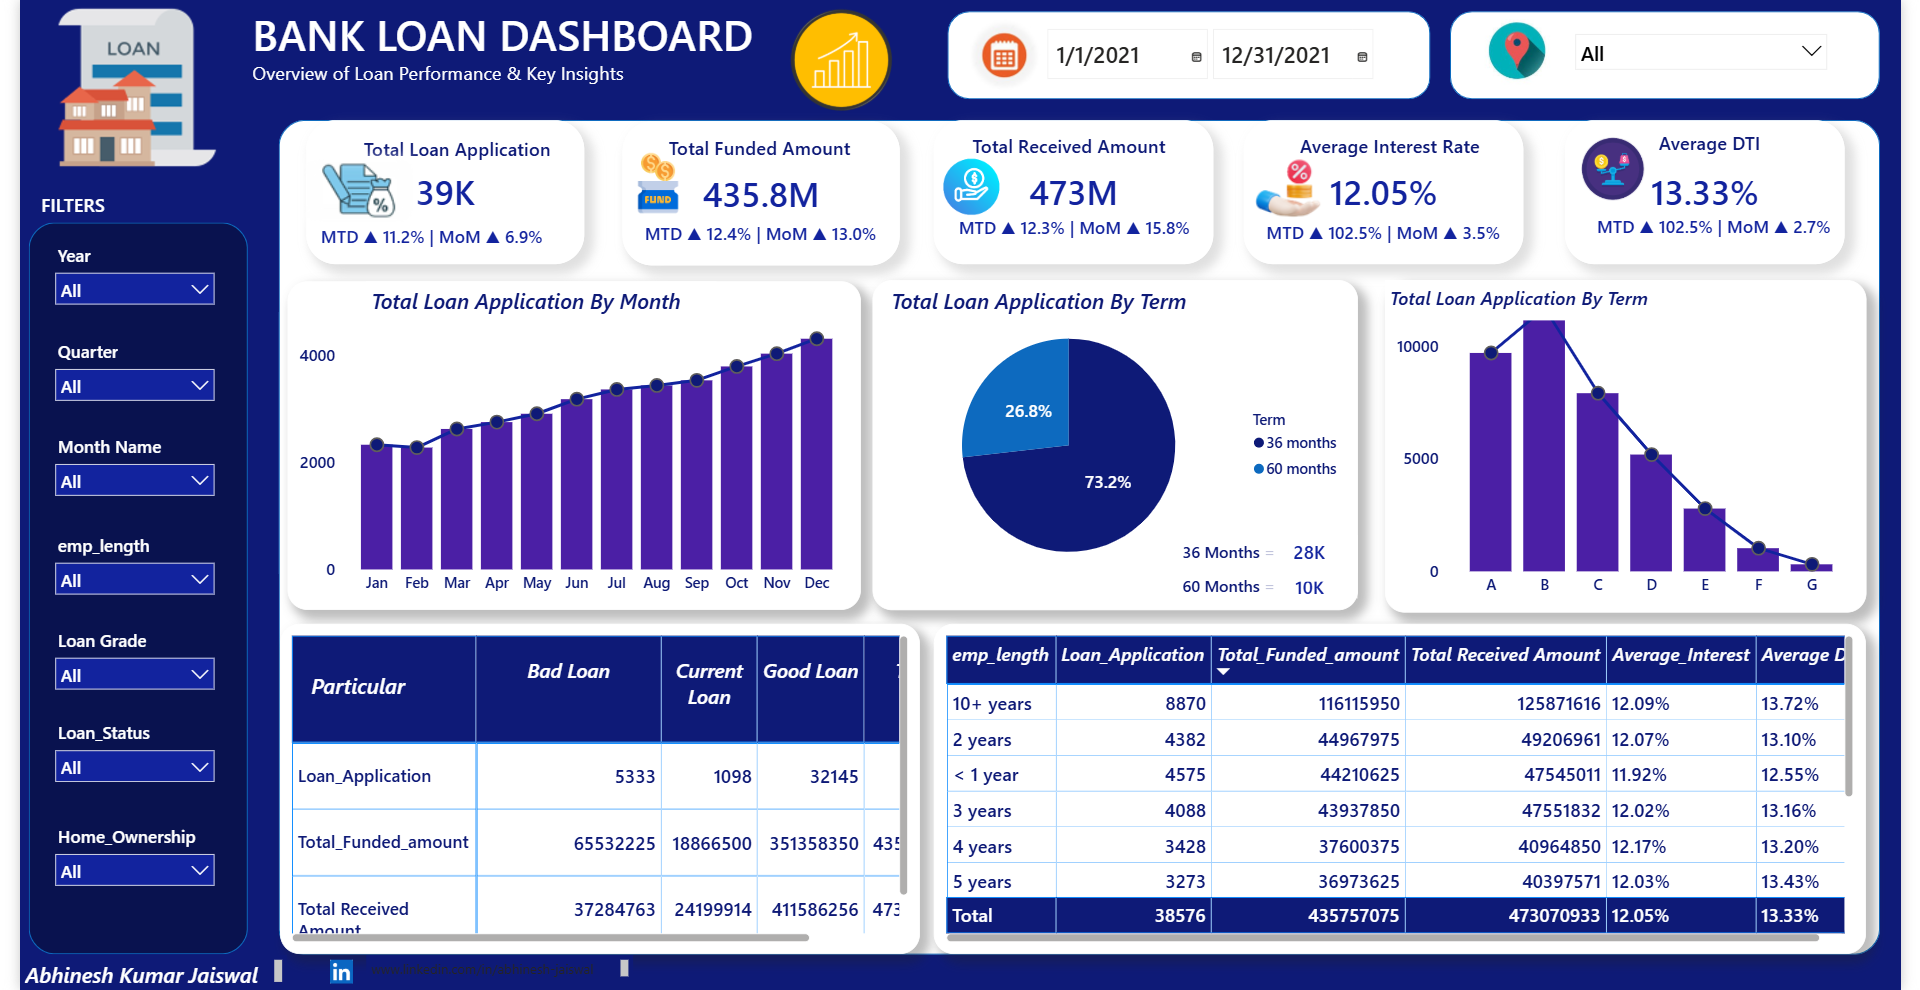

What the dashboard file says about the page in this screenshot:
{"tool":"powerbi","page":{"name":"Financial Dashboard","canvas":[1900,1000],"ordinal":0},"visuals":[{"type":"textbox","box":[229.2,0,783.2,121],"z":0},{"type":"textbox","box":[229.2,55.7,474.4,39.8],"z":1000},{"type":"image","box":[749.8,3.2,159.2,168.7],"z":2000},{"type":"shape","box":[1444.8,11.7,434.1,88.8],"z":3000},{"type":"shape","box":[936.9,11.7,487.7,88.8],"z":4000},{"type":"slicer","fields":{"Values":["Calendar.Date"]},"box":[1025.8,18.4,362,68.7],"z":5000},{"type":"image","box":[950.3,13.4,87.2,83.8],"z":6000},{"type":"image","box":[1475,13.4,85.5,87.2],"z":7000},{"type":"slicer","title":"State","fields":{"Values":["Bank_Loan.address_state"]},"box":[1560.4,23.5,274.9,63.7],"z":8000},{"type":"image","box":[31.8,0,173.5,176.7],"z":9000},{"type":"textbox","box":[15.9,189.4,100.3,35],"z":10000},{"type":"shape","box":[8.4,224.6,221.2,739.2],"z":11000},{"type":"slicer","fields":{"Values":["Calendar.Year"]},"box":[25.1,241.4,181,82.1],"z":12000},{"type":"slicer","fields":{"Values":["Calendar.Quarter"]},"box":[25.1,338.6,181,82.1],"z":13000},{"type":"slicer","fields":{"Values":["Calendar.Month Name"]},"box":[25.1,434.1,181,82.1],"z":14000},{"type":"slicer","fields":{"Values":["Bank_Loan.emp_length"]},"box":[25.1,534.7,181,82.1],"z":15000},{"type":"slicer","fields":{"Values":["Bank_Loan.sub_grade"]},"box":[25.1,630.2,181,82.1],"z":16000},{"type":"slicer","fields":{"Values":["Bank_Loan.loan_status"]},"box":[25.1,724.1,181,82.1],"z":17000},{"type":"slicer","fields":{"Values":["Bank_Loan.home_ownership"]},"box":[25.1,828,181,82.1],"z":18000},{"type":"shape","box":[261.5,120.7,1617.4,843.1],"z":19000},{"type":"card","title":"Total Loan Application","fields":{"Values":["Table.Loan_Application"]},"box":[289.5,120.8,280.6,145.6],"z":20000},{"type":"textbox","box":[342.8,133.2,200.7,39.1],"z":21000},{"type":"card","fields":{"Values":["Table.Loan KPI Subtitle"]},"box":[289.5,223.8,254,35.5],"z":22000},{"type":"image","box":[268.2,120.8,149.2,142.1],"z":23000},{"type":"card","title":"Total Loan Application","fields":{"Values":["Table.Total_Funded_amount"]},"box":[608.2,122.3,279.8,145.8],"z":24000},{"type":"textbox","box":[650.1,130.7,199.4,41.9],"z":25000},{"type":"card","fields":{"Values":["Table.fund KPI Subtitle"]},"box":[621.6,222,254,32],"z":26000},{"type":"card","title":"Total Loan Application","fields":{"Values":["Measure.Total Received Amount"]},"box":[923.5,120.8,282.4,145.6],"z":27000},{"type":"textbox","box":[957.3,129.7,227.3,40.8],"z":28000},{"type":"card","fields":{"Values":["Measure.Received KPI Subtitle"]},"box":[937.7,214.9,254,33.7],"z":29000},{"type":"card","title":"Total Loan Application","fields":{"Values":["Measure.Average_Interest"]},"box":[1236.1,120.8,282.4,145.6],"z":30000},{"type":"textbox","box":[1287.6,129.7,202.5,40.8],"z":31000},{"type":"card","fields":{"Values":["Measure.Interest KPI Subtitle"]},"box":[1253.9,214.9,246.9,44.4],"z":32000},{"type":"card","title":"Total Loan Application","fields":{"Values":["Measure.Average DTI"]},"box":[1561.1,120.8,282.4,145.6],"z":33000},{"type":"textbox","box":[1650.5,125.7,150.8,43.6],"z":34000},{"type":"card","fields":{"Values":["Measure.DTI KPI Subtitle"]},"box":[1586.8,207.8,248,45.2],"z":35000},{"type":"lineClusteredColumnComboChart","fields":{"Category":["Calendar.Month Name"],"Y":["Measure.Loan_Application"],"Y2":["Measure.Loan_Application"]},"box":[270,284.2,579,332.1],"z":36000},{"type":"textbox","box":[349.9,284.2,353.4,39.1],"z":37000},{"type":"pieChart","fields":{"Category":["Bank_Loan.term"],"Y":["Measure.Loan_Application"]},"box":[861.4,282.4,490.2,333.9],"z":38000},{"type":"textbox","box":[875.6,284.2,353.4,39.1],"z":39000},{"type":"textbox","box":[1168.6,541.7,120.8,33.7],"z":40000},{"type":"textbox","box":[1168.6,575.4,120.8,33.7],"z":41000},{"type":"card","title":"Total Loan Application","fields":{"Values":["Measure.36 Months"]},"box":[1253.9,539.9,97.7,39.1],"z":42000},{"type":"card","title":"Total Loan Application","fields":{"Values":["Measure.60 Months"]},"box":[1255.7,579,95.9,24.9],"z":43000},{"type":"lineClusteredColumnComboChart","fields":{"Category":["Bank_Loan.grade"],"Y":["Measure.Loan_Application"],"Y2":["Measure.Loan_Application"]},"box":[1378.2,282.4,486.6,335.7],"z":44000},{"type":"textbox","box":[1378.2,282.4,298.4,40.8],"z":45000},{"type":"pivotTable","fields":{"Columns":["Bank_Loan.Loan Type"],"Values":["Measure.Loan_Application","Measure.Total_Funded_amount","Measure.Total Received Amount"]},"box":[262.9,630.5,646.5,333.9],"z":46000},{"type":"textbox","box":[289.5,673.1,140.3,51.5],"z":46001},{"type":"tableEx","fields":{"Values":["Bank_Loan.emp_length","Measure.Loan_Application","Measure.Total_Funded_amount","Measure.Total Received Amount","Measure.Average_Interest","Measure.Average DTI"]},"box":[923.5,630.5,941.3,333.9],"z":46002},{"type":"textbox","box":[0,964.4,270,35.5],"z":46003},{"type":"image","box":[289.5,964.4,71,33.7],"z":46004},{"type":"textbox","box":[349.9,964.4,270,35.5],"z":46005},{"type":"image","box":[607.4,147.4,74.6,74.6],"z":46006},{"type":"image","box":[923.5,151,76.4,74.6],"z":46007},{"type":"image","box":[1236.1,152.7,88.8,78.1],"z":46008},{"type":"image","box":[1566.5,133.2,83.5,76.4],"z":46009}]}

Visuals, with their boxes in screenshot pixels (x1, y1, x2, y2), scaled from the page's 1900x1000 canvas onto the 1920x990 screenshot:
textbox: box(232, 0, 1023, 120)
textbox: box(232, 55, 711, 95)
image: box(758, 3, 919, 170)
shape: box(1460, 12, 1899, 99)
shape: box(947, 12, 1440, 99)
slicer - Calendar.Date: box(1037, 18, 1402, 86)
image: box(960, 13, 1048, 96)
image: box(1491, 13, 1577, 100)
"State" slicer: box(1577, 23, 1855, 86)
image: box(32, 0, 207, 175)
textbox: box(16, 188, 117, 222)
shape: box(8, 222, 232, 954)
slicer - Calendar.Year: box(25, 239, 208, 320)
slicer - Calendar.Quarter: box(25, 335, 208, 416)
slicer - Calendar.Month Name: box(25, 430, 208, 511)
slicer - Bank_Loan.emp_length: box(25, 529, 208, 611)
slicer - Bank_Loan.sub_grade: box(25, 624, 208, 705)
slicer - Bank_Loan.loan_status: box(25, 717, 208, 798)
slicer - Bank_Loan.home_ownership: box(25, 820, 208, 901)
shape: box(264, 119, 1899, 954)
"Total Loan Application" card: box(293, 120, 576, 264)
textbox: box(346, 132, 549, 171)
card - Table.Loan KPI Subtitle: box(293, 222, 549, 257)
image: box(271, 120, 422, 260)
"Total Loan Application" card: box(615, 121, 897, 265)
textbox: box(657, 129, 858, 171)
card - Table.fund KPI Subtitle: box(628, 220, 885, 251)
"Total Loan Application" card: box(933, 120, 1219, 264)
textbox: box(967, 128, 1197, 169)
card - Measure.Received KPI Subtitle: box(948, 213, 1204, 246)
"Total Loan Application" card: box(1249, 120, 1534, 264)
textbox: box(1301, 128, 1506, 169)
card - Measure.Interest KPI Subtitle: box(1267, 213, 1517, 257)
"Total Loan Application" card: box(1578, 120, 1863, 264)
textbox: box(1668, 124, 1820, 168)
card - Measure.DTI KPI Subtitle: box(1604, 206, 1854, 250)
lineClusteredColumnComboChart - Calendar.Month Name x Measure.Loan_Application: box(273, 281, 858, 610)
textbox: box(354, 281, 711, 320)
pieChart - Bank_Loan.term x Measure.Loan_Application: box(870, 280, 1366, 610)
textbox: box(885, 281, 1242, 320)
textbox: box(1181, 536, 1303, 570)
textbox: box(1181, 570, 1303, 603)
"Total Loan Application" card: box(1267, 535, 1366, 573)
"Total Loan Application" card: box(1269, 573, 1366, 598)
lineClusteredColumnComboChart - Bank_Loan.grade x Measure.Loan_Application: box(1393, 280, 1884, 612)
textbox: box(1393, 280, 1694, 320)
pivotTable - Bank_Loan.Loan Type x Measure.Loan_Application: box(266, 624, 919, 955)
textbox: box(293, 666, 434, 717)
tableEx - Bank_Loan.emp_length x Measure.Loan_Application: box(933, 624, 1884, 955)
textbox: box(0, 955, 273, 989)
image: box(293, 955, 364, 988)
textbox: box(354, 955, 626, 989)
image: box(614, 146, 689, 220)
image: box(933, 149, 1010, 223)
image: box(1249, 151, 1339, 228)
image: box(1583, 132, 1667, 208)
